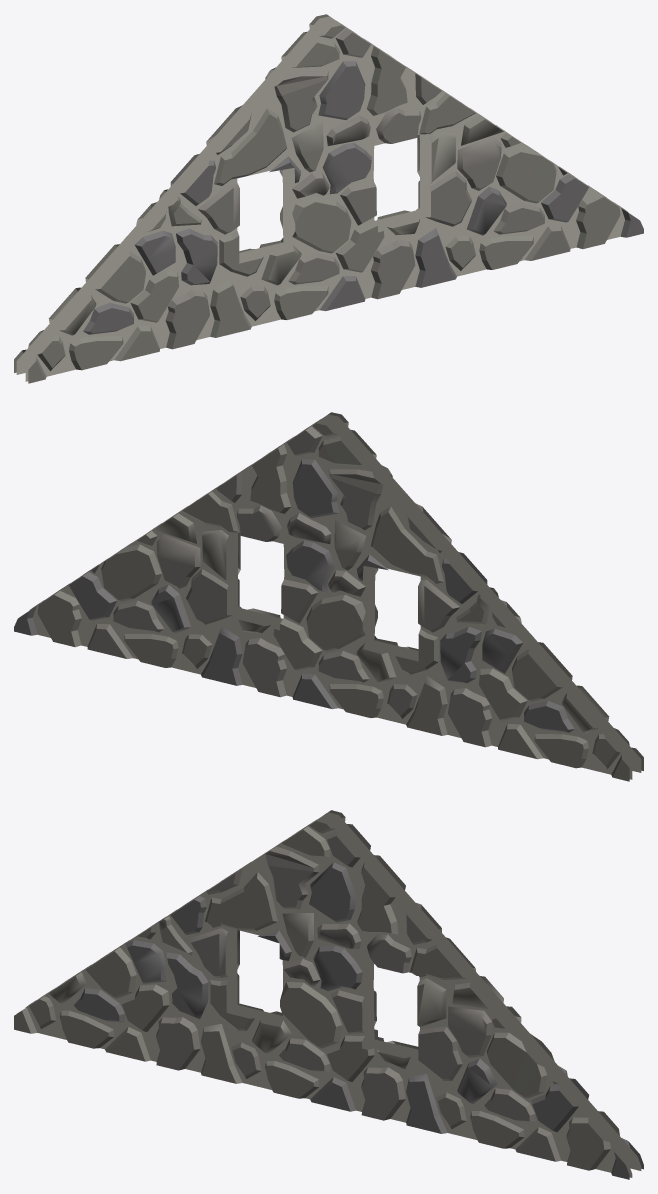
The model's file is rpgpp_ag_roof_end_01_9x4_wall_window_04d.fbx.
3 views of the same model, one above another, from view 1: azimuth 30°, elevation 25°; view 2: azimuth 150°, elevation 25°; view 3: azimuth 330°, elevation 25° (orthographic).
Parts seen in each view (by area): view 1: rpgpp_ag_roof_end_01_9x4_wall_window_04d; view 2: rpgpp_ag_roof_end_01_9x4_wall_window_04d; view 3: rpgpp_ag_roof_end_01_9x4_wall_window_04d.
Boxes of the visible parts, bbox=[...] form: rpgpp_ag_roof_end_01_9x4_wall_window_04d: bbox=[14, 14, 643, 383]; rpgpp_ag_roof_end_01_9x4_wall_window_04d: bbox=[14, 412, 643, 781]; rpgpp_ag_roof_end_01_9x4_wall_window_04d: bbox=[14, 810, 643, 1179].
Size of the model in its own units: 9 by 3.95 by 0.404.
